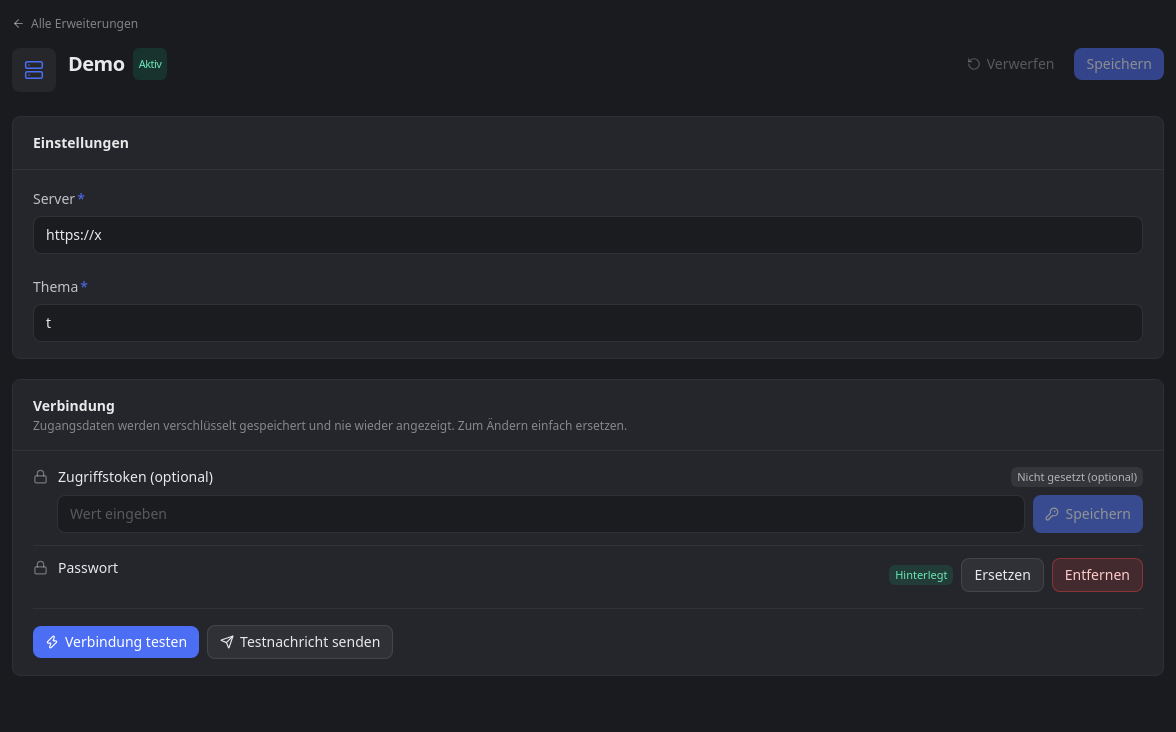
Verbindung testen › zeigt ein erfolgreiches Ergebnis grün und fragt den Test-Endpunkt
Click the button "Verbindung testen": (116, 642) [33,626,199,658]
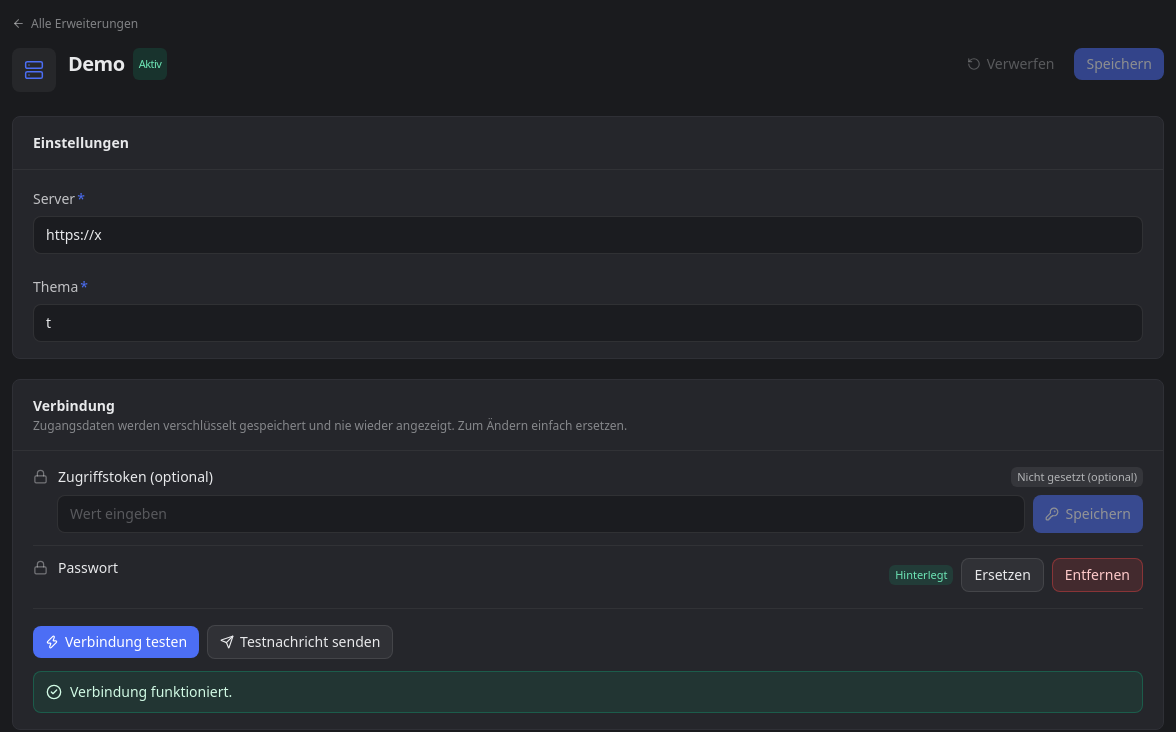
Check: the text "Verbindung funktioniert." is shown, box [70,682,232,702]
